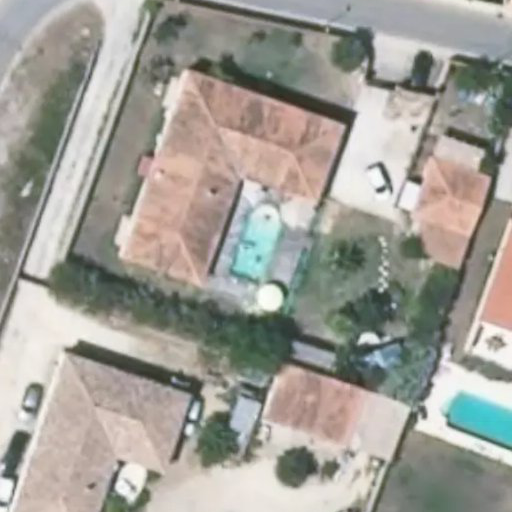pool: (231, 197, 283, 286), (442, 388, 512, 451)
